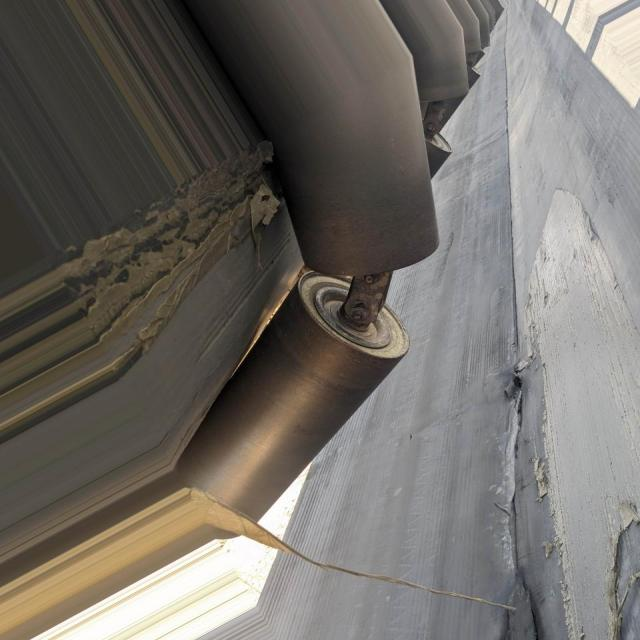Roller: (176, 272, 402, 525), (280, 63, 442, 280)
Tear: (513, 363, 570, 640), (616, 522, 640, 640)
